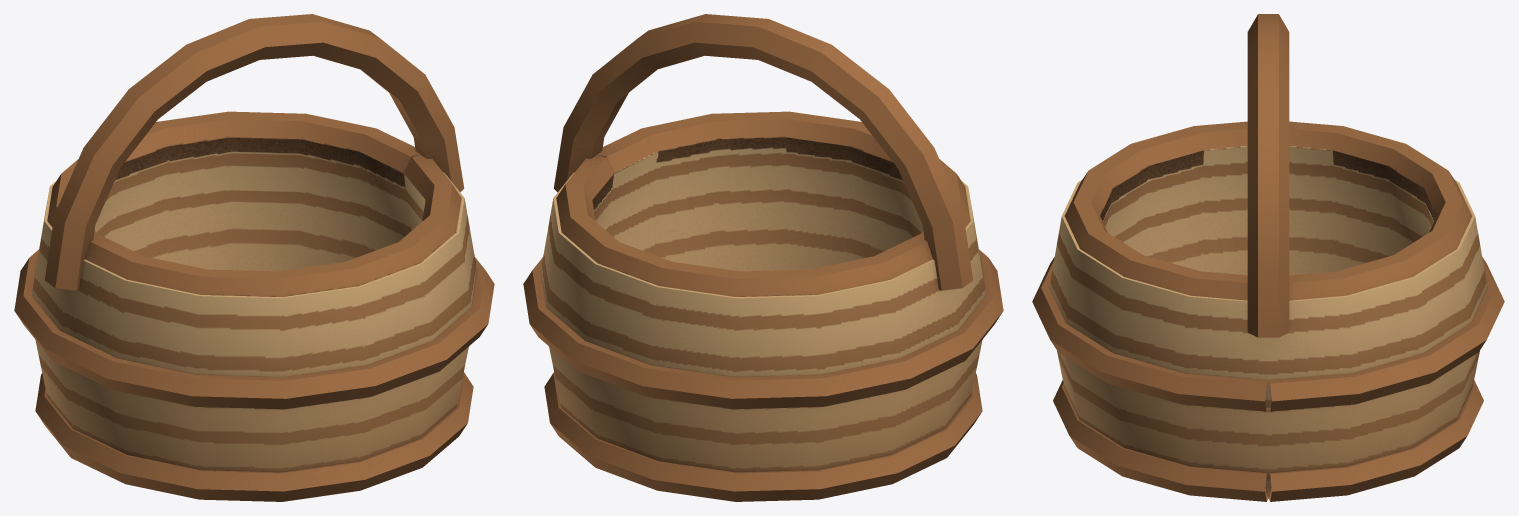
Rendered from wheel_basket.fbx.
The picture shows the model from 3 angles, left to right: view 1: azimuth 30°, elevation 25°; view 2: azimuth 150°, elevation 25°; view 3: azimuth 270°, elevation 25°; orthographic projection. The views are drawn at different scales.
Parts seen in each view (by area): view 1: wheel_basket; view 2: wheel_basket; view 3: wheel_basket.
Boxes of the visible parts, left/top/right/bottom form: wheel_basket: left=14, top=14, right=494, bottom=501; wheel_basket: left=523, top=14, right=1003, bottom=501; wheel_basket: left=1032, top=14, right=1504, bottom=501.
Size of the model in its own units: 160 by 150 by 160.
1 material, 1 textured.
